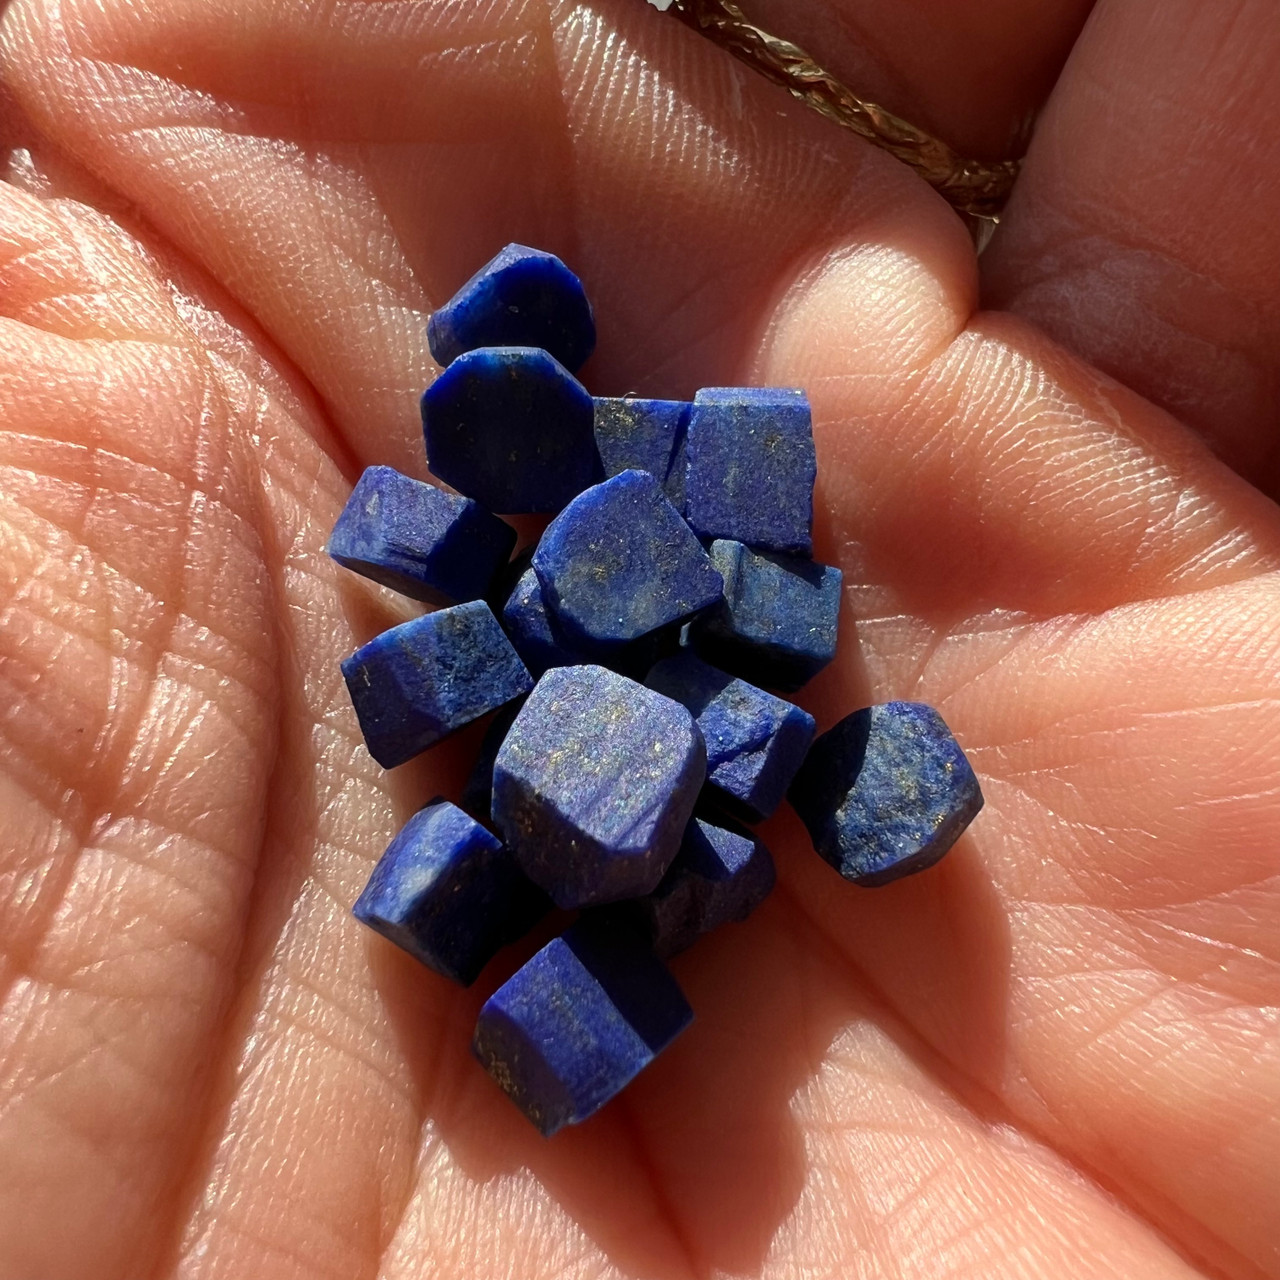Lapis_Lazuli: (474, 660, 694, 905), (530, 465, 731, 648)
